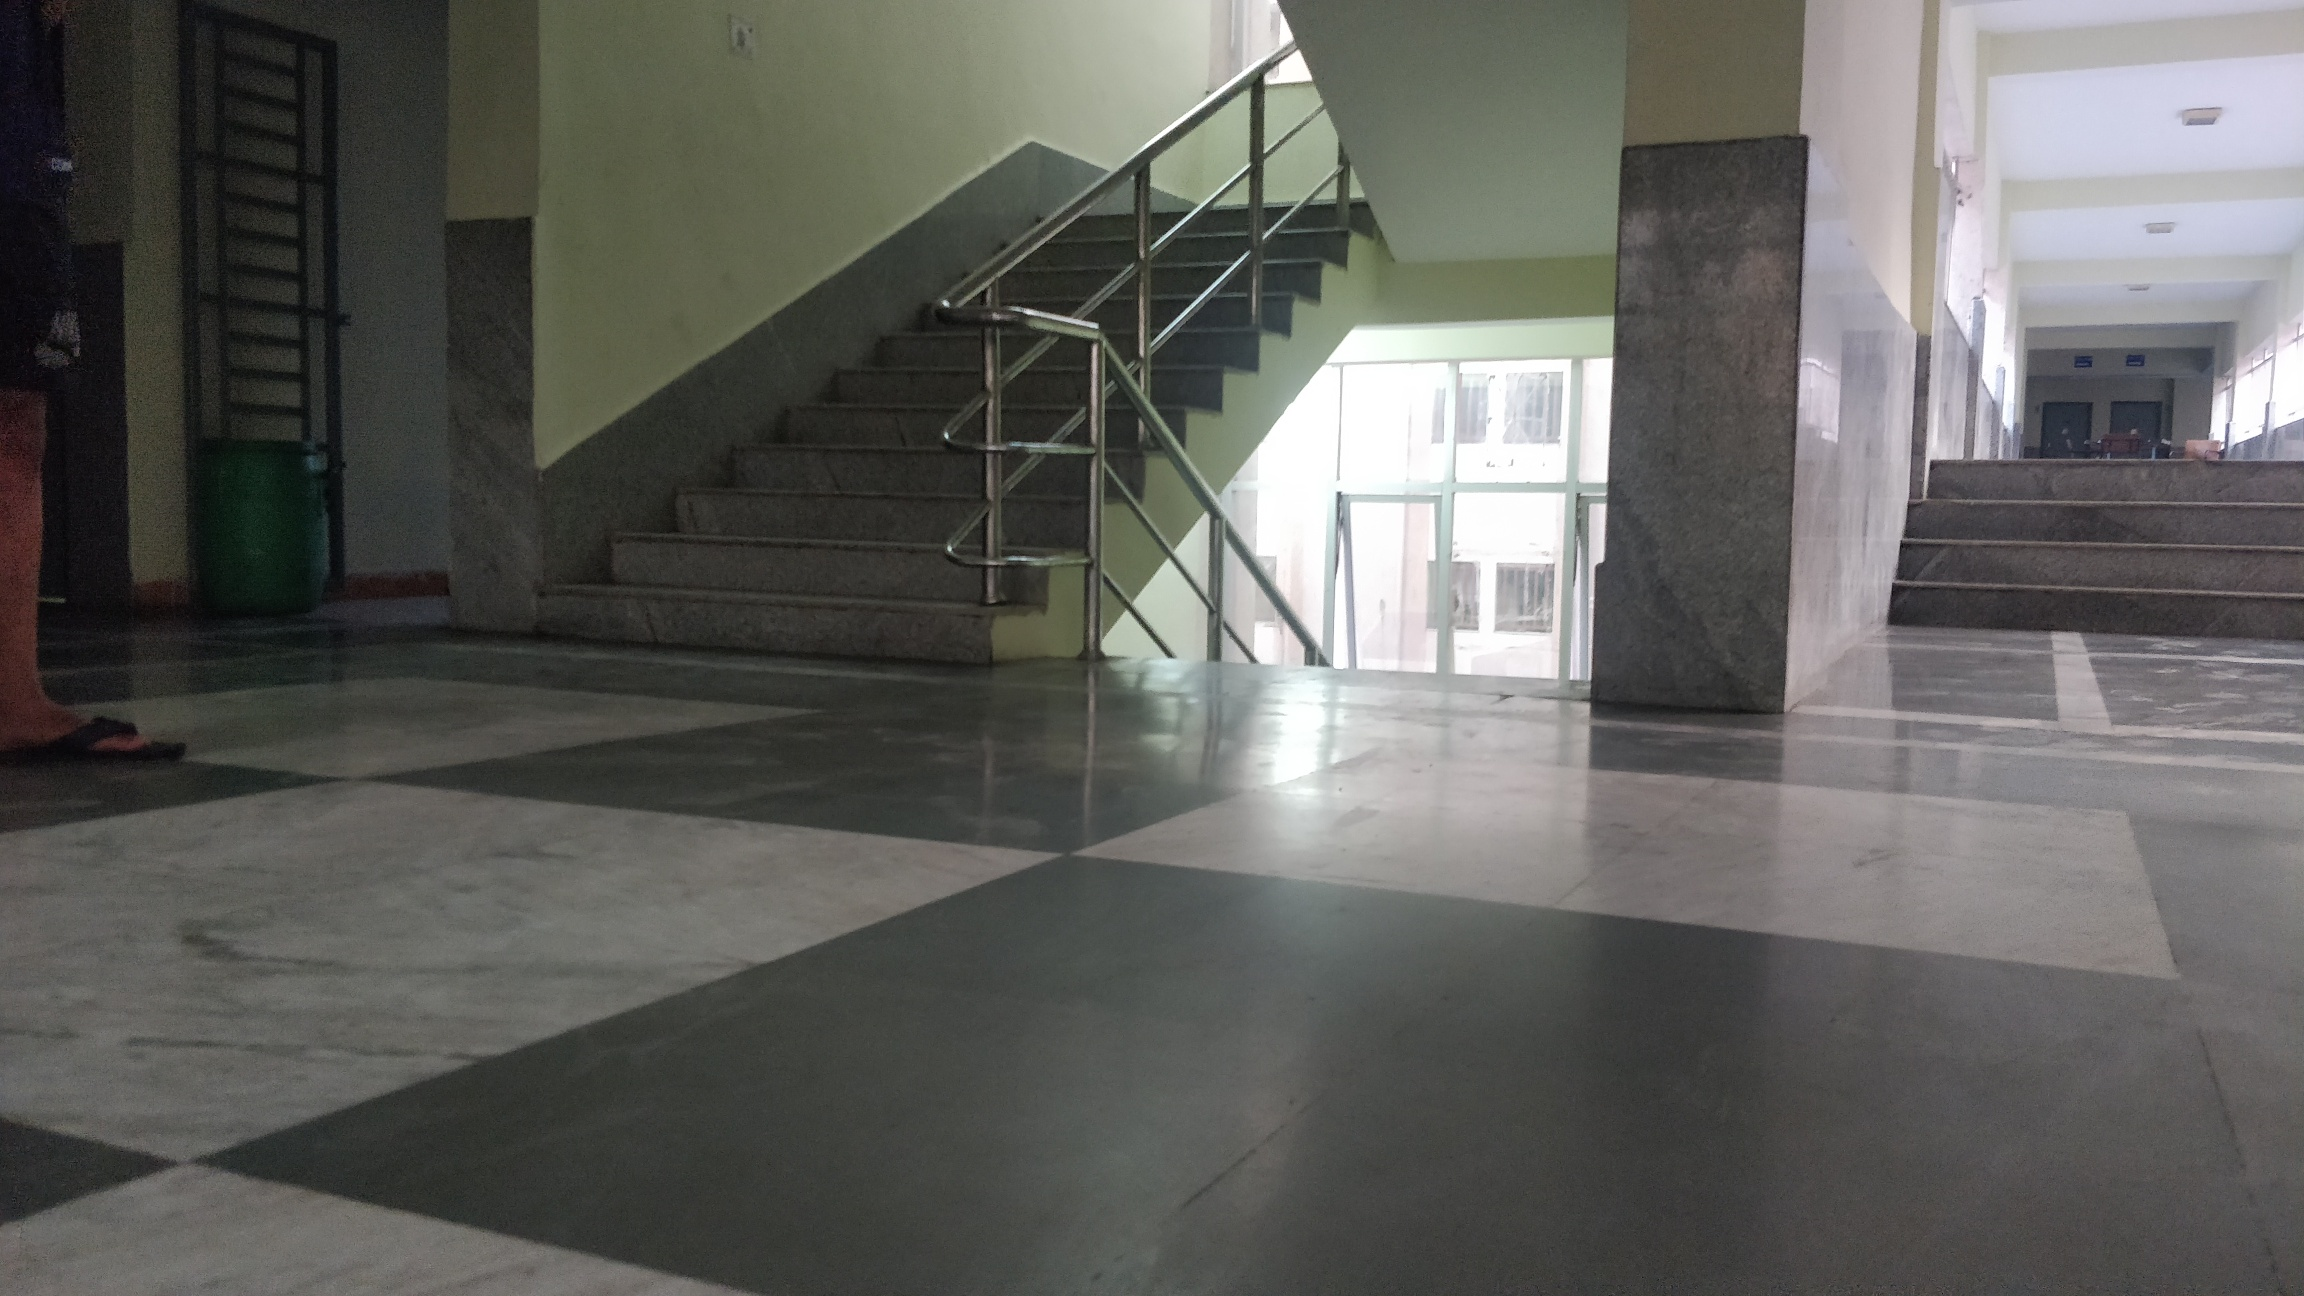stairs_up: (587, 203, 1336, 654)
